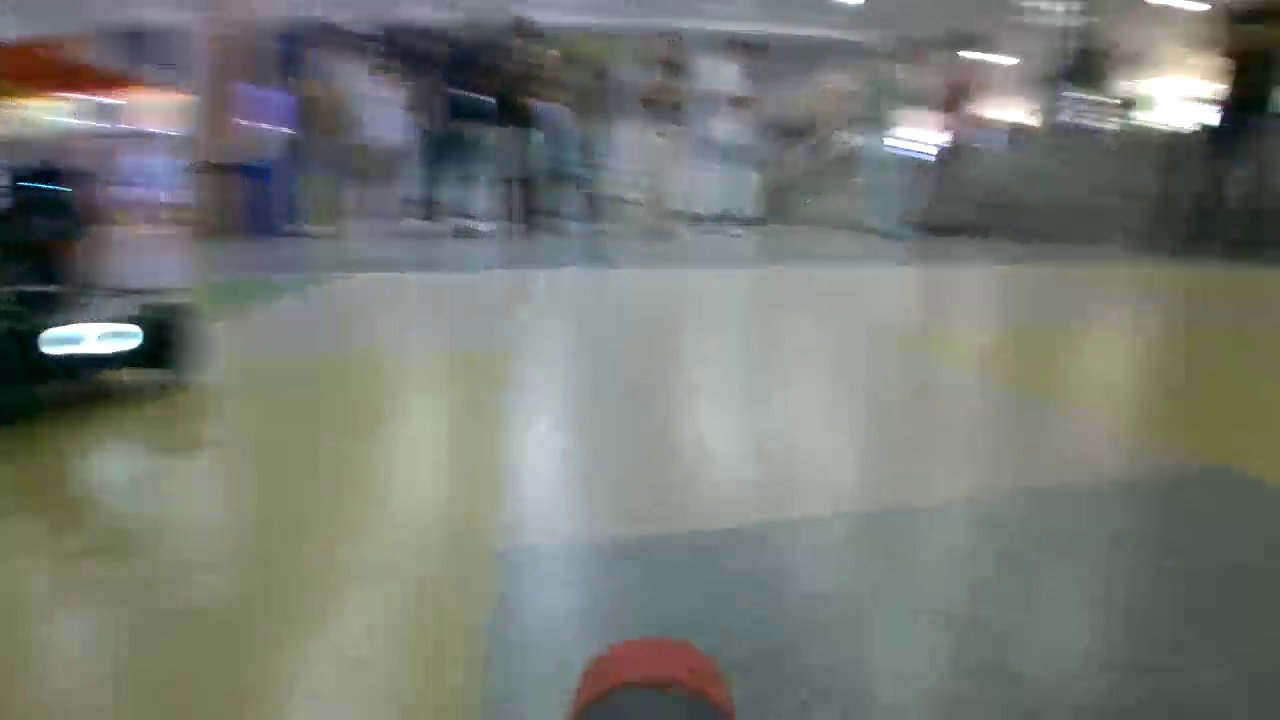robot: (4, 176, 178, 400)
